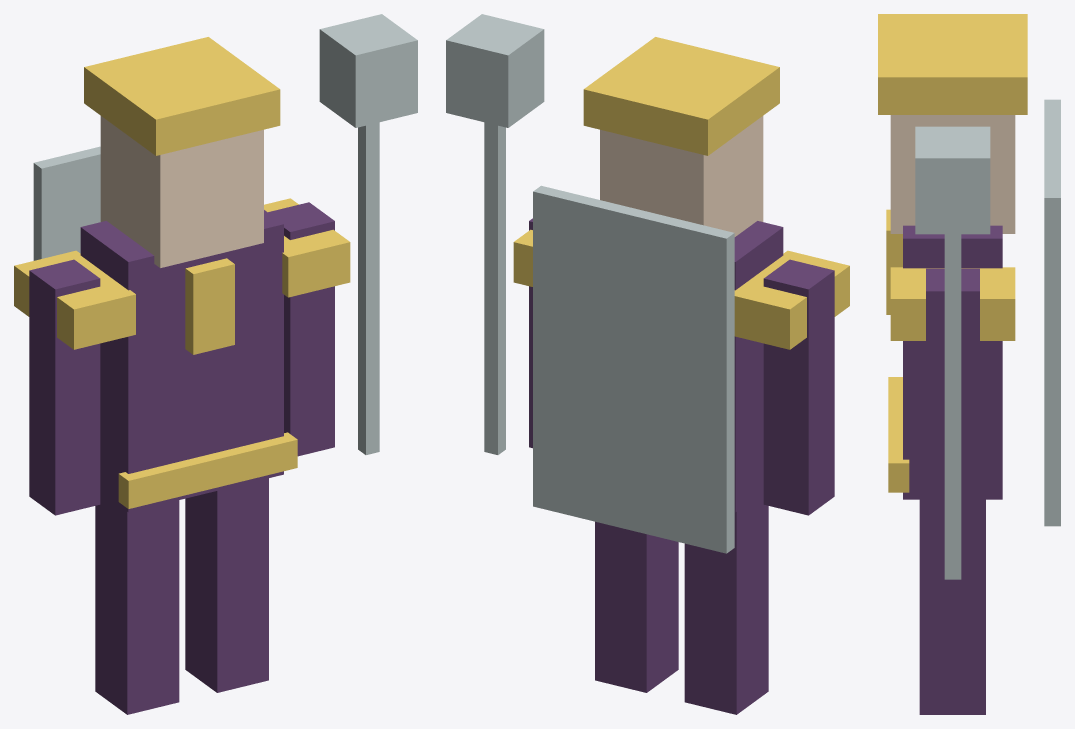
The model's file is 17_luma_stormhush_engineer_near_security.glb.
The picture shows the model from 3 angles, left to right: view 1: azimuth 30°, elevation 25°; view 2: azimuth 150°, elevation 25°; view 3: azimuth 270°, elevation 25°; orthographic projection. The views are drawn at different scales.
Visible parts, largest first — view 1: Luma Stormhush, Engineer near Security; view 2: Luma Stormhush, Engineer near Security; view 3: Luma Stormhush, Engineer near Security.
Boxes of the visible parts, bbox=[...] form: Luma Stormhush, Engineer near Security: bbox=[14, 14, 417, 714]; Luma Stormhush, Engineer near Security: bbox=[446, 14, 849, 714]; Luma Stormhush, Engineer near Security: bbox=[878, 14, 1060, 714].
Bounding box in the file's own units: 1.04 × 1.69 × 0.4416.
